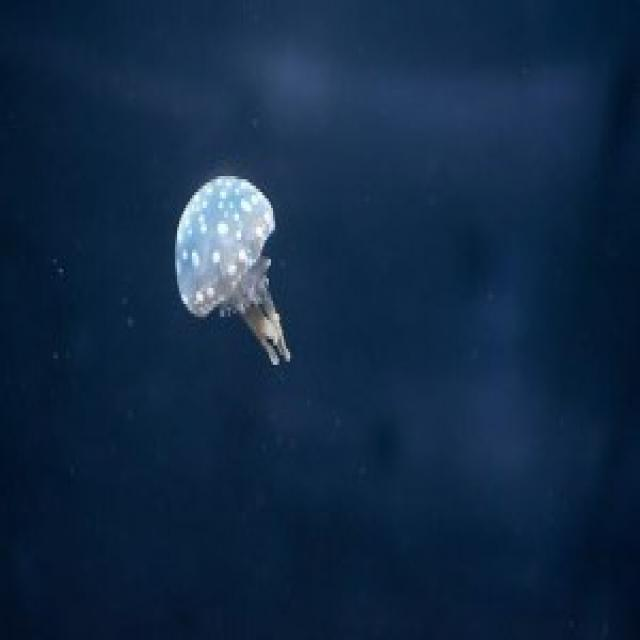Jellyfish: (168, 170, 297, 374)
